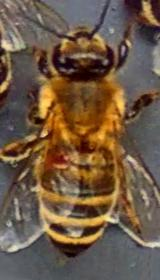varroa_mite: (34, 140, 83, 176)
